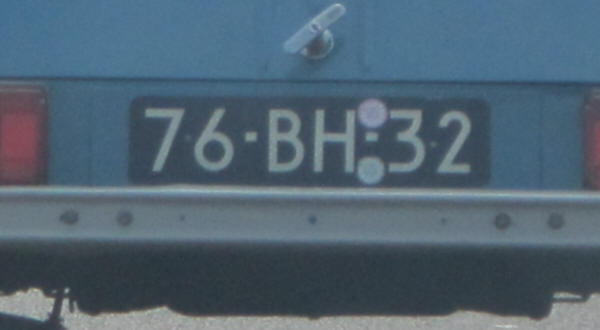license_plate: (128, 96, 491, 188)
